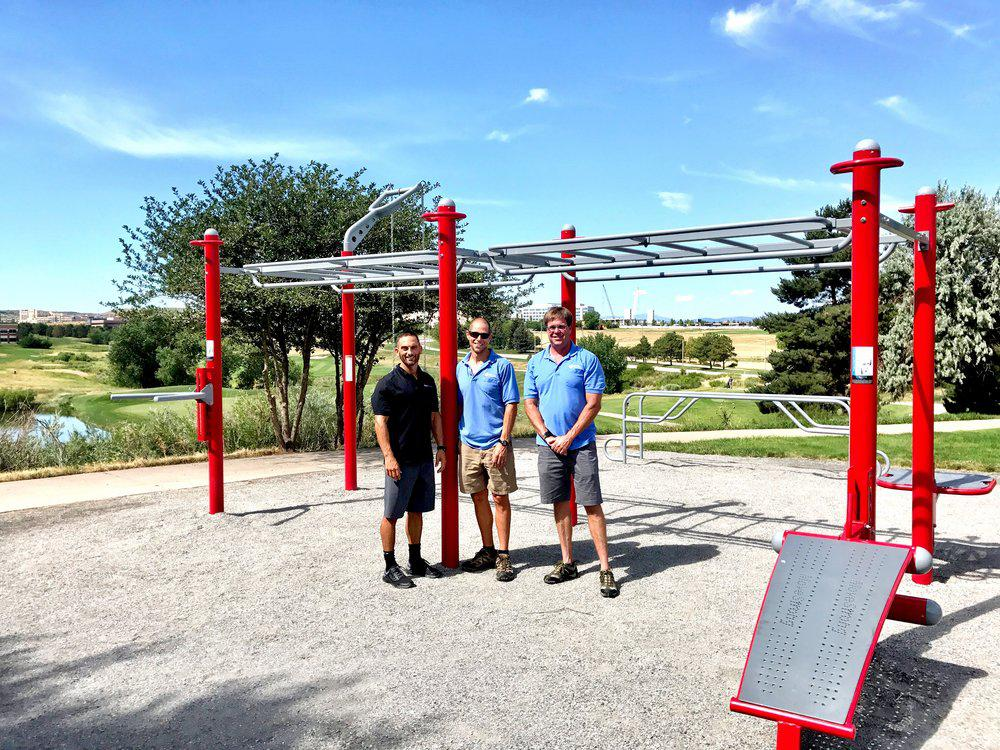Person: (516, 292, 651, 616), (343, 316, 462, 595), (444, 299, 534, 597)
